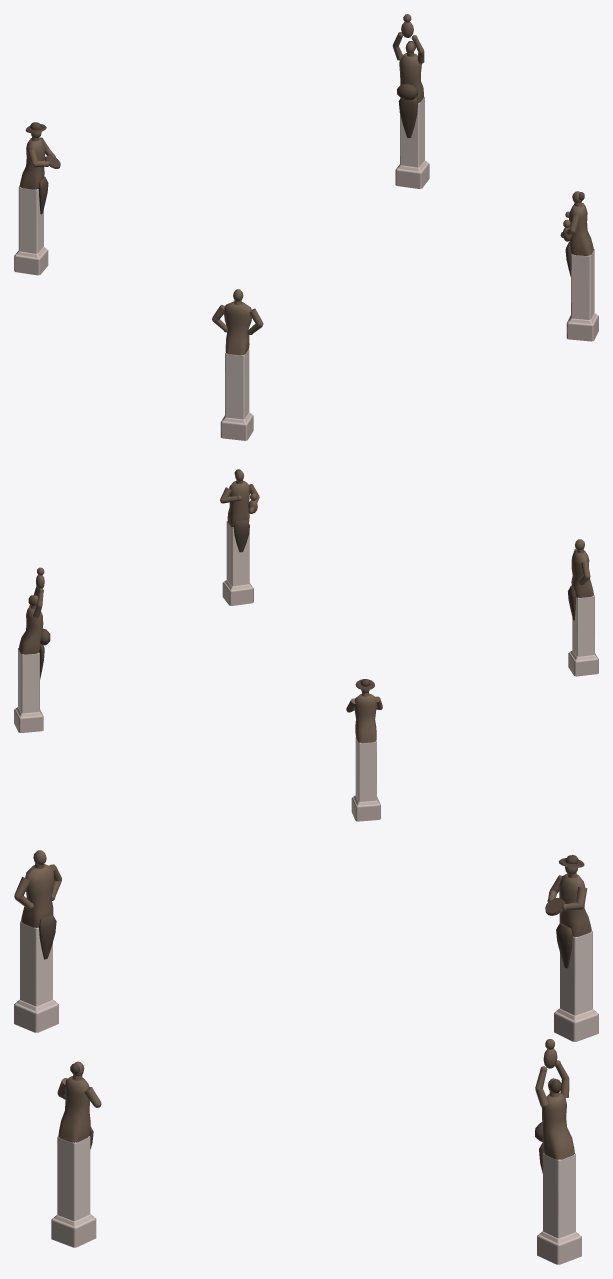
Rendered from independence-square-statues.glb.
3 renders of one model, top to bottom at view 1: azimuth 30°, elevation 25°; view 2: azimuth 150°, elevation 25°; view 3: azimuth 270°, elevation 25°, orthographic. The views are drawn at different scales.
Visible parts, largest first — view 1: Independence Square statues; view 2: Independence Square statues; view 3: Independence Square statues.
Boxes of the visible parts, x1,y1,x2,y2 form: Independence Square statues: [14, 14, 598, 440]; Independence Square statues: [14, 469, 598, 821]; Independence Square statues: [14, 850, 598, 1264].
Bounding box in the file's own units: 23.57 × 9.22 × 23.21.
